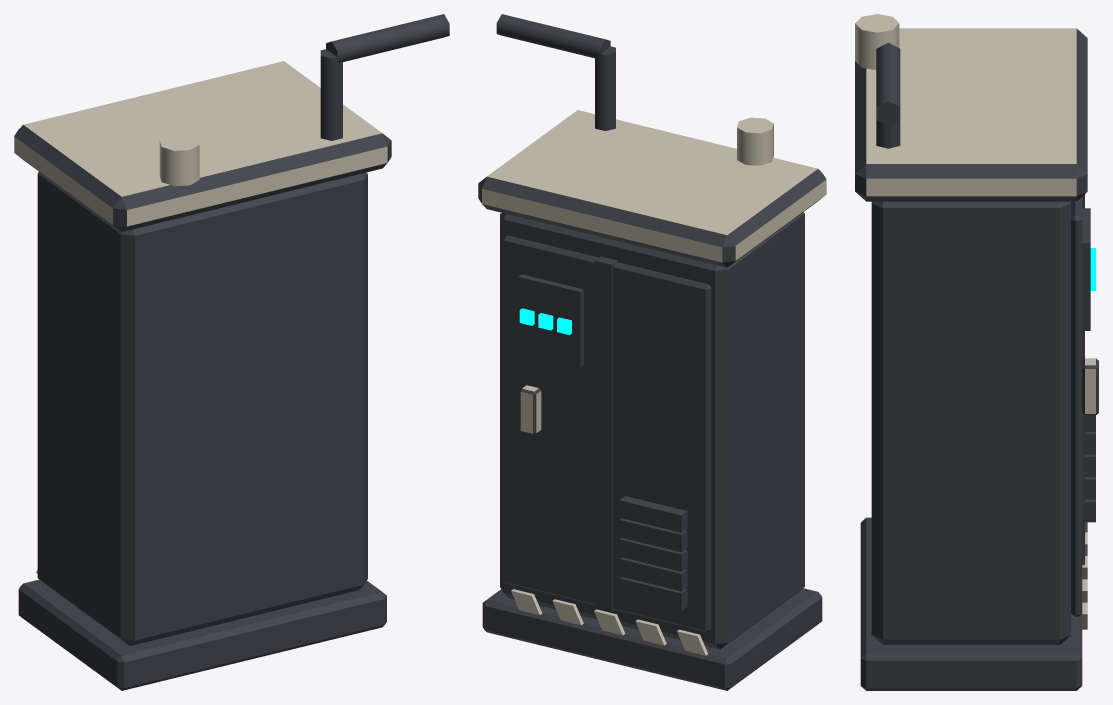
The model's file is service_cabinet.glb.
The picture shows the model from 3 angles, left to right: view 1: azimuth 30°, elevation 25°; view 2: azimuth 150°, elevation 25°; view 3: azimuth 270°, elevation 25°; orthographic projection. The views are drawn at different scales.
Visible parts, largest first — view 1: service_cabinet; view 2: service_cabinet; view 3: service_cabinet.
Boxes of the visible parts, bbox=[...] form: service_cabinet: bbox=[14, 14, 449, 690]; service_cabinet: bbox=[478, 14, 826, 690]; service_cabinet: bbox=[855, 14, 1098, 690].
Bounding box in the file's own units: 1.52 × 2.5 × 0.88.
